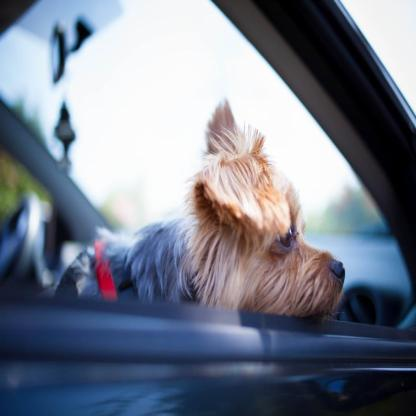Car: (2, 2, 416, 414)
